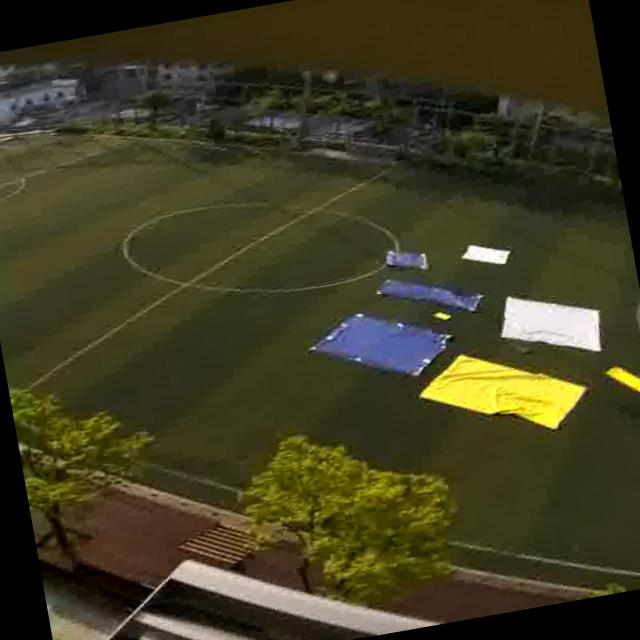danger: (329, 308, 428, 384), (393, 272, 461, 312), (379, 238, 432, 278)
safety: (494, 274, 604, 362), (456, 231, 515, 276)
warning: (436, 348, 572, 452), (597, 356, 640, 402)
